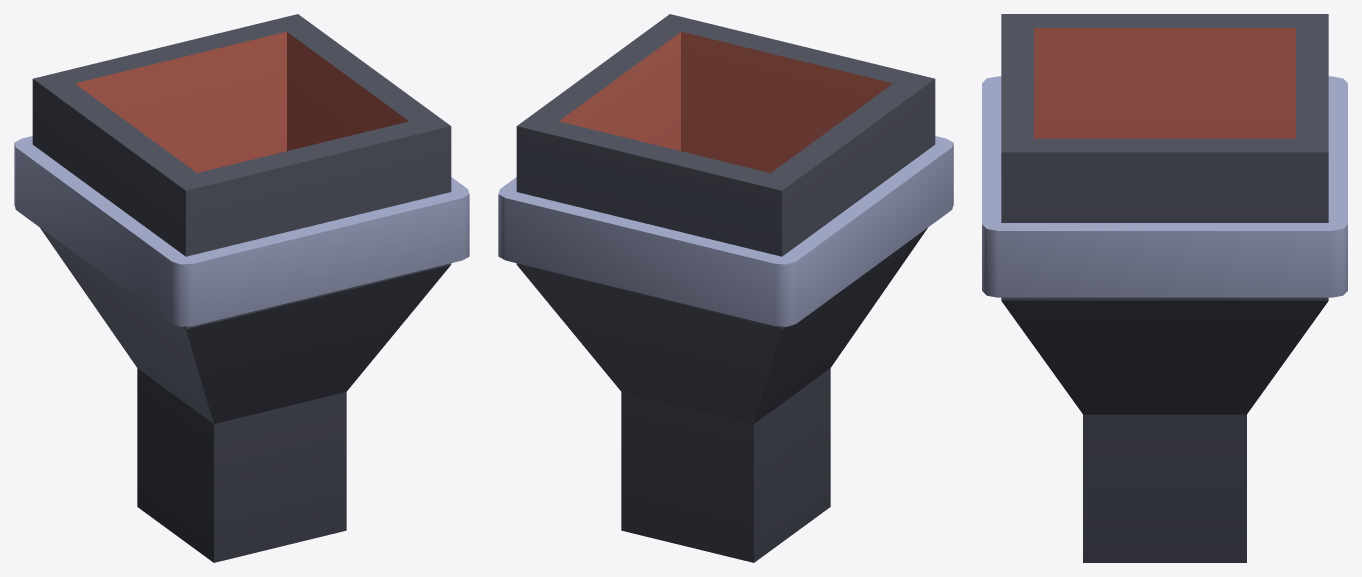
The model's file is hopper-high-square.obj.
3 renders of one model, left to right at view 1: azimuth 30°, elevation 25°; view 2: azimuth 150°, elevation 25°; view 3: azimuth 270°, elevation 25°, orthographic. The views are drawn at different scales.
Parts seen in each view (by area): view 1: hopper-high-square; view 2: hopper-high-square; view 3: hopper-high-square.
Boxes of the visible parts, box(x1,y1,x2,y2) form: hopper-high-square: box(14, 14, 469, 562); hopper-high-square: box(498, 14, 953, 562); hopper-high-square: box(982, 14, 1347, 562).
Size of the model in its own units: 1.12 by 1.5 by 1.12.
